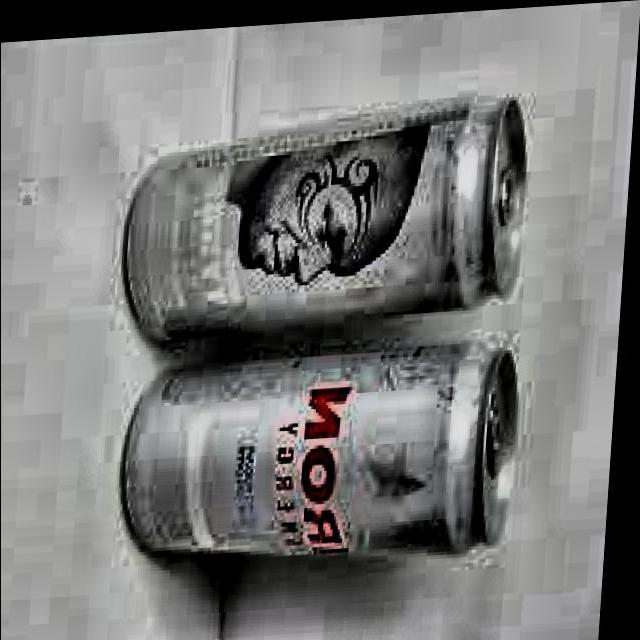Aluminum Can: (119, 324, 538, 580), (116, 91, 540, 337)
